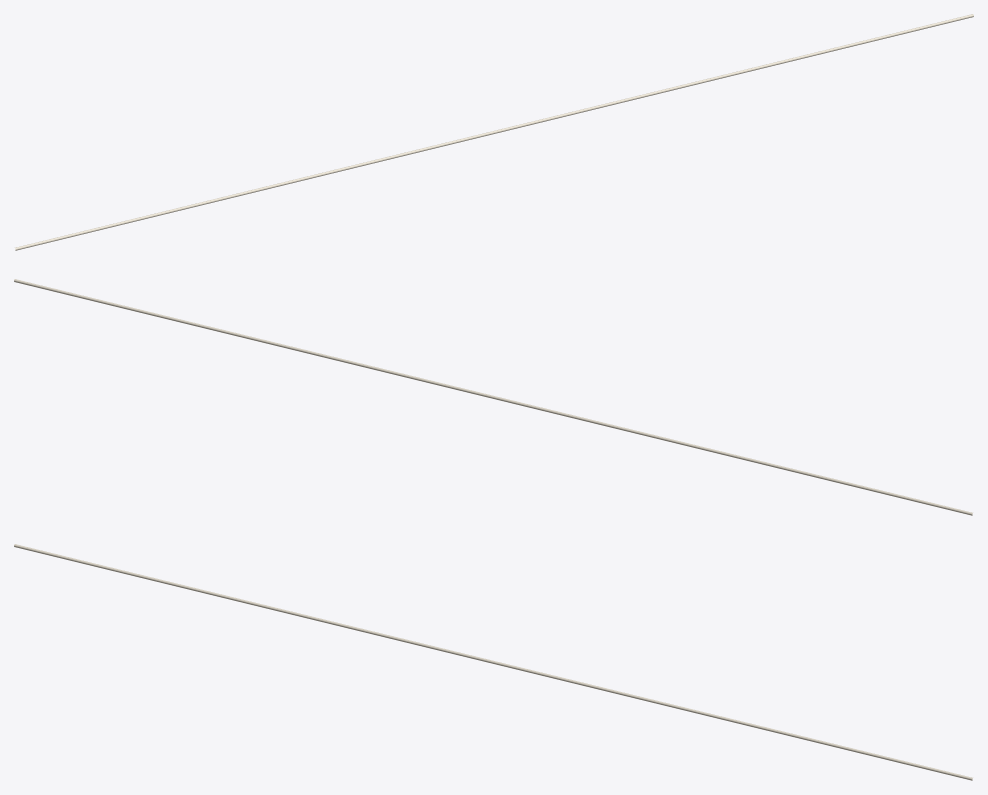
The model's file is area-b-lod2-piping.glb.
3 renders of one model, top to bottom at view 1: azimuth 30°, elevation 25°; view 2: azimuth 150°, elevation 25°; view 3: azimuth 330°, elevation 25°, orthographic.
Bounding box in the file's own units: 20 × 0.056 × 0.056.
